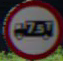Heavy Vehicles: (10, 6, 58, 49)
